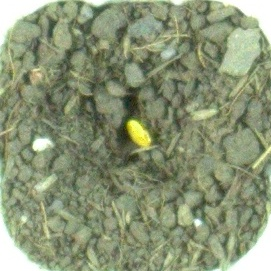pepper seed: (46, 42, 203, 192)
